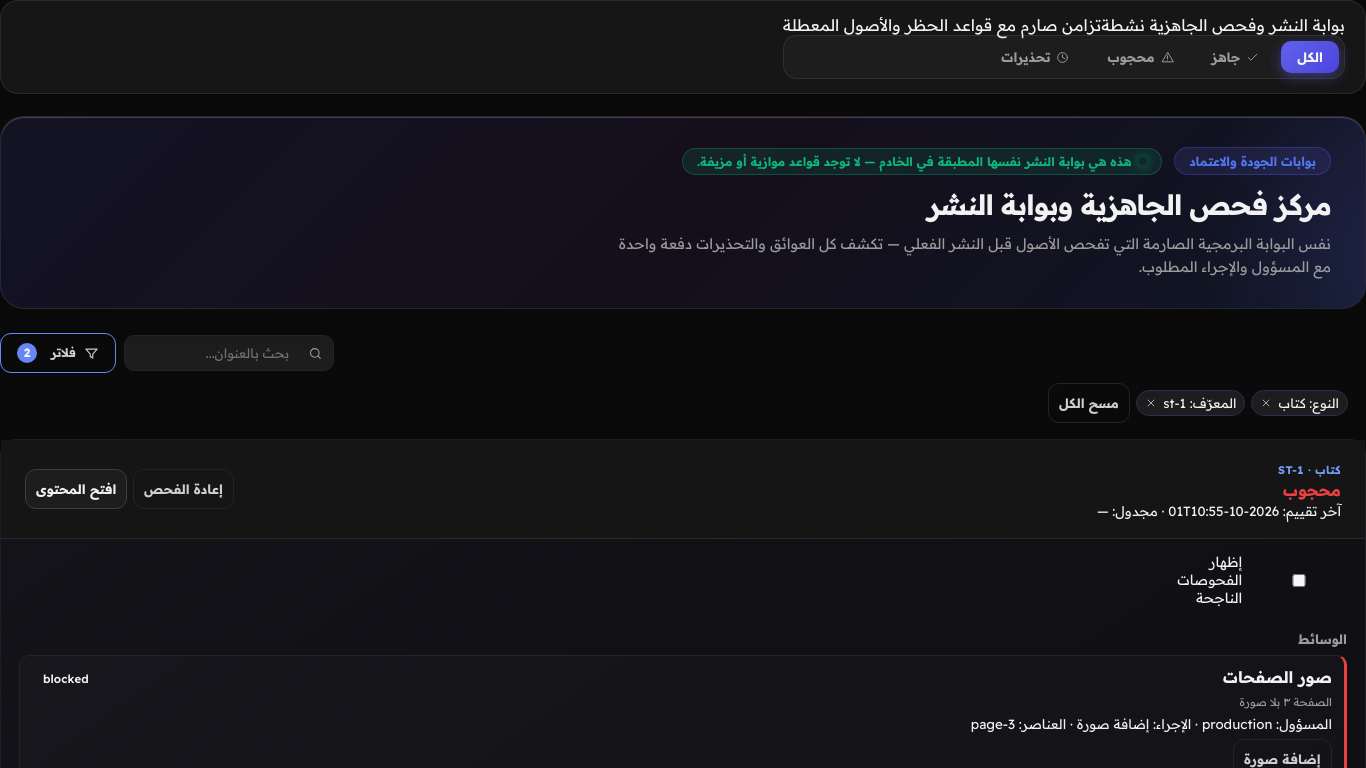
Test case: QualityPage › the id chip drops only itself and clears the verdict with it
Expected: the text "المعرّف: st-1" is shown, [1163, 395, 1236, 411]
Click the button named "إزالة الفلتر: المعرّف". click: (1151, 403)
box: [1145, 397, 1157, 409]
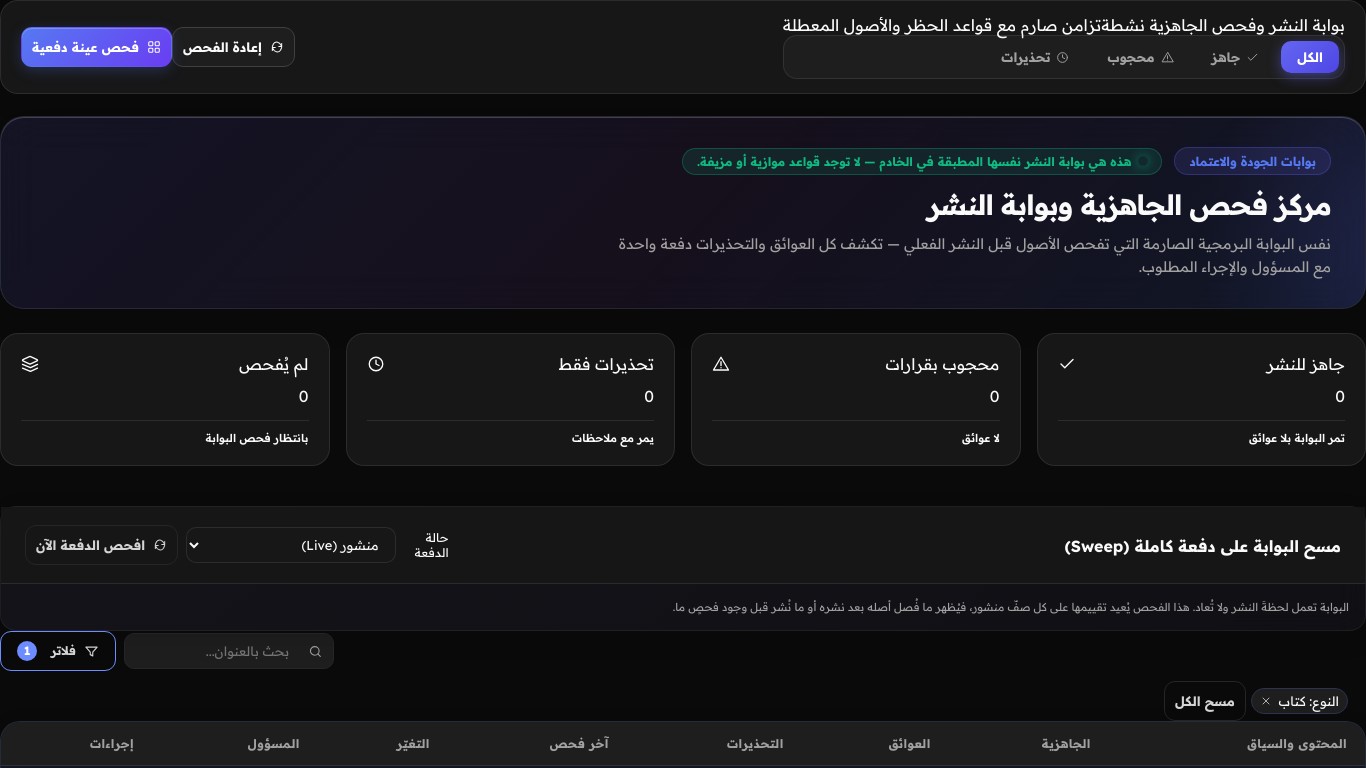
Expected: the text "النوع: كتاب" is shown, [1278, 693, 1339, 709]
Expected: the text "الصفحة ٣ بلا صورة" is gone
